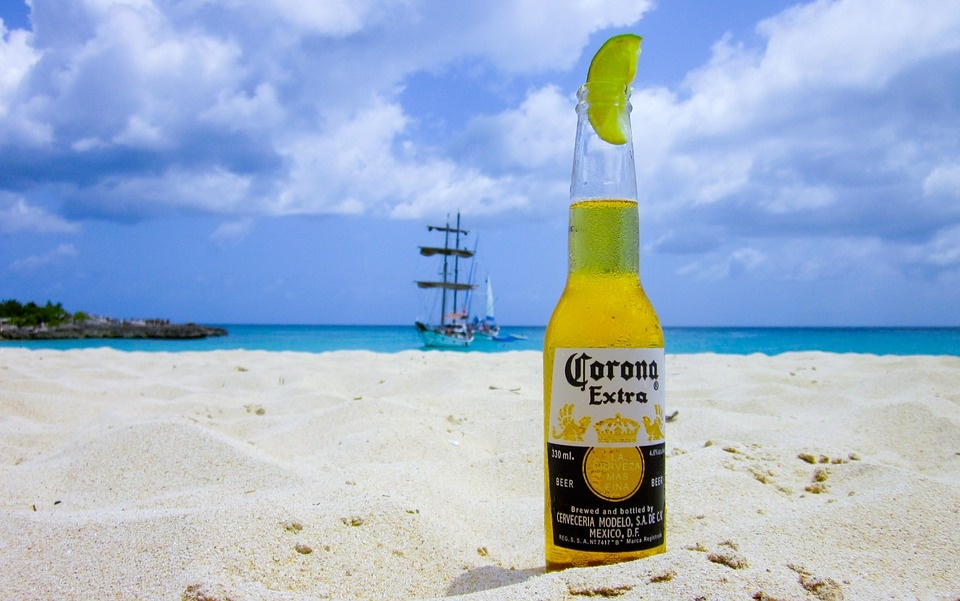beerBottle: (542, 87, 670, 564)
